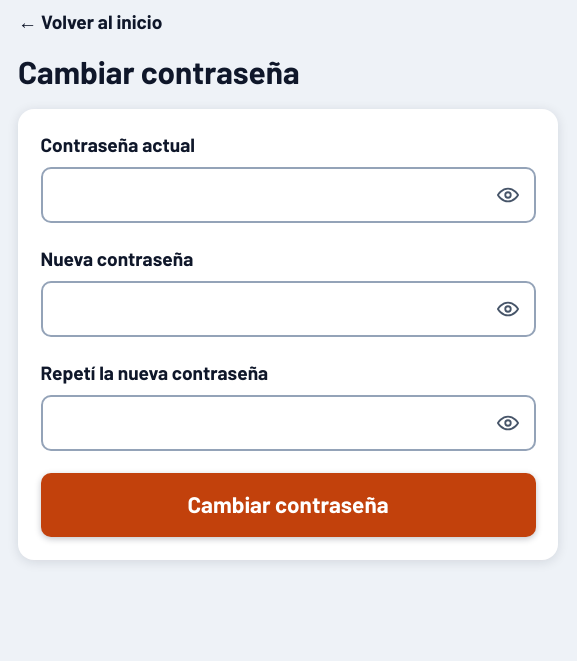
Test: CambiarContrasenaPage › con la contraseña actual incorrecta muestra el motivo del servidor y conserva lo escrito
The width and height of the screenshot is (577, 661).
In the password field labelled "Contraseña actual": (288, 195) [40,167,536,223], type "Equivocada1"
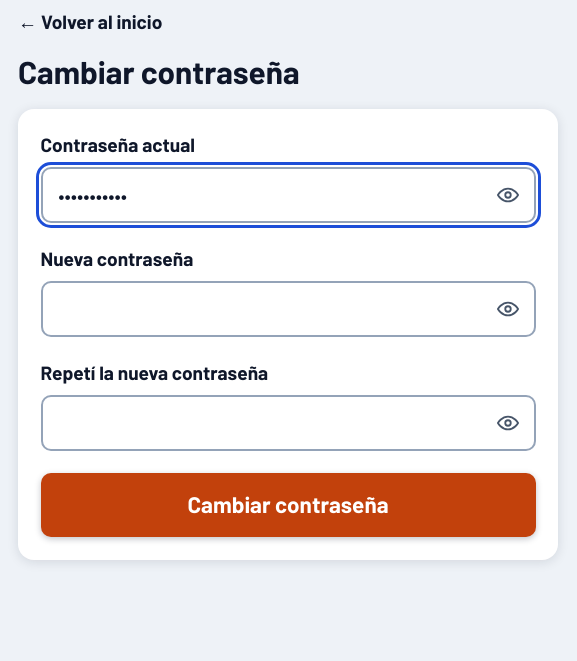
In the password field labelled "Nueva contraseña": (288, 309) [40,281,536,337], type "Nueva123!"
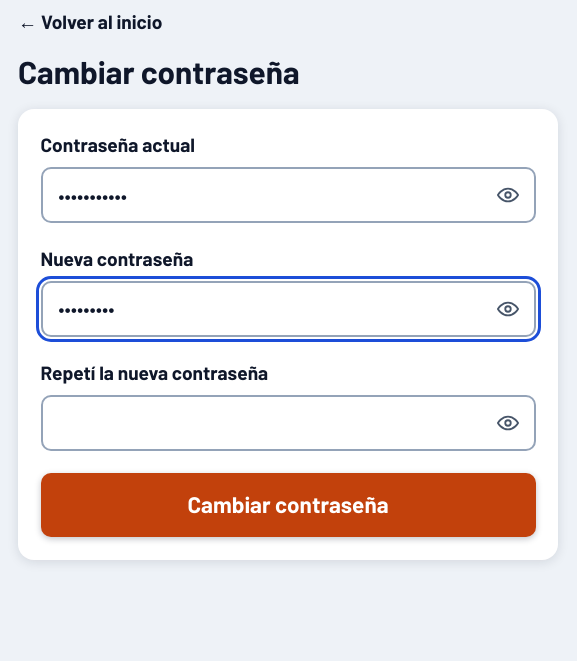
In the password field labelled "Repetí la nueva contraseña": (288, 423) [40,395,536,451], type "Nueva123!"
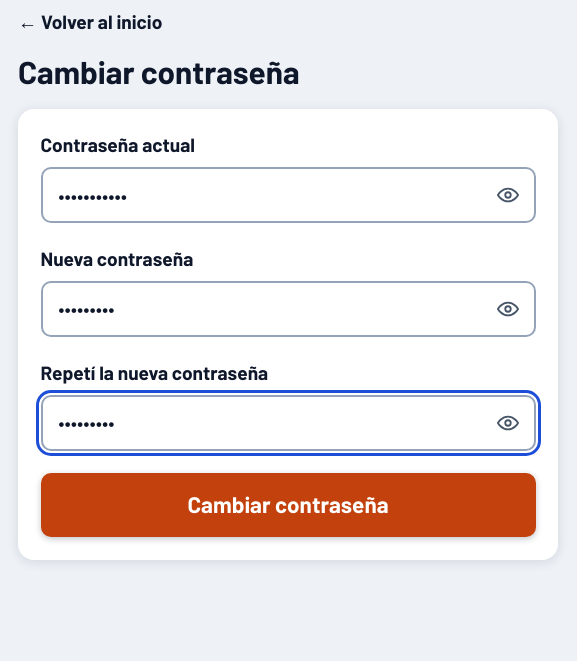
Click the button "Cambiar contraseña": (288, 505) [40,473,536,537]
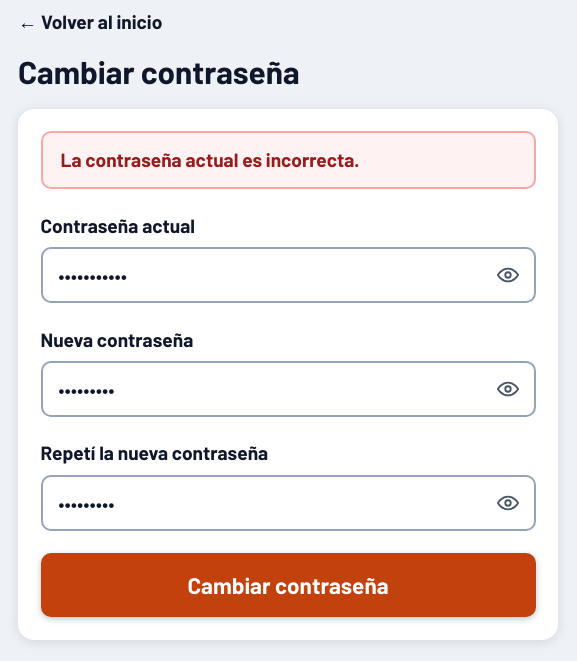
Check: the button "Cambiar contraseña" is enabled, box [40,553,536,617]
Check: the message reads "La contraseña actual es incorrecta.", box [60,148,360,171]
